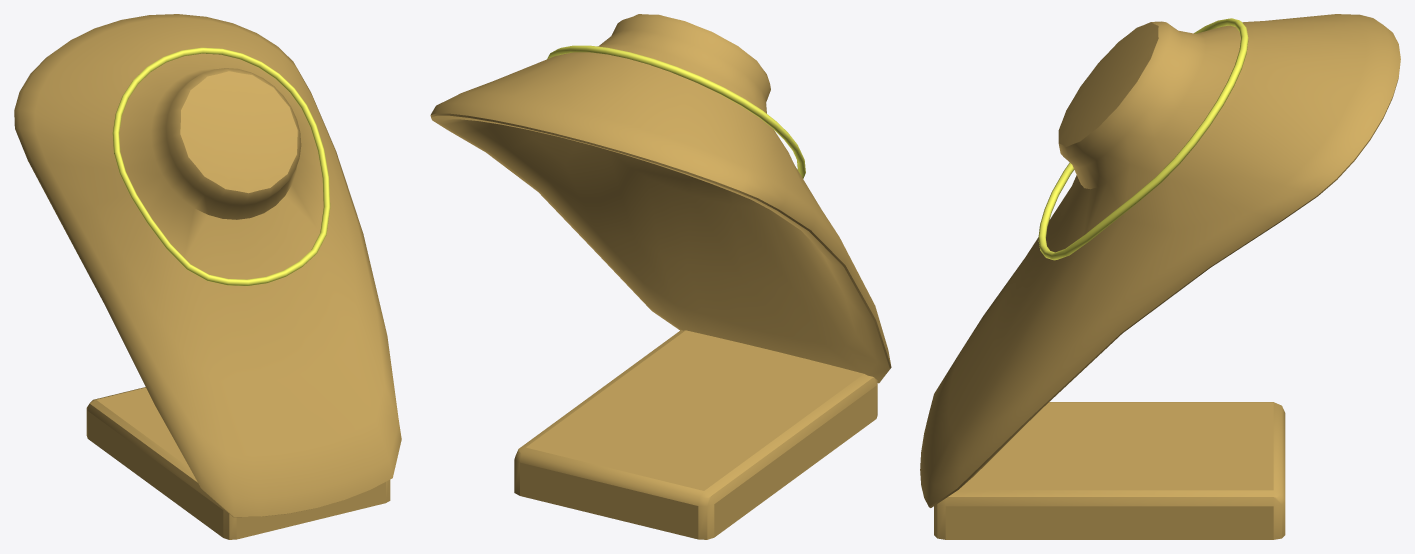
The model's file is Necklace_8.fbx.
3 renders of one model, left to right at view 1: azimuth 30°, elevation 25°; view 2: azimuth 150°, elevation 25°; view 3: azimuth 270°, elevation 25°, orthographic. The views are drawn at different scales.
Visible parts, largest first — view 1: SM_Stand_Necklace_2, SM_Necklace_2; view 2: SM_Stand_Necklace_2, SM_Necklace_2; view 3: SM_Stand_Necklace_2, SM_Necklace_2.
Boxes of the visible parts, box(x1,y1,x2,y2) form: SM_Stand_Necklace_2: box(14, 14, 401, 539); SM_Necklace_2: box(112, 47, 330, 286); SM_Stand_Necklace_2: box(430, 14, 891, 539); SM_Necklace_2: box(547, 45, 805, 178); SM_Stand_Necklace_2: box(920, 14, 1400, 539); SM_Necklace_2: box(1038, 18, 1248, 260).
Size of the model in its own units: 22.51 by 29.29 by 27.78.
